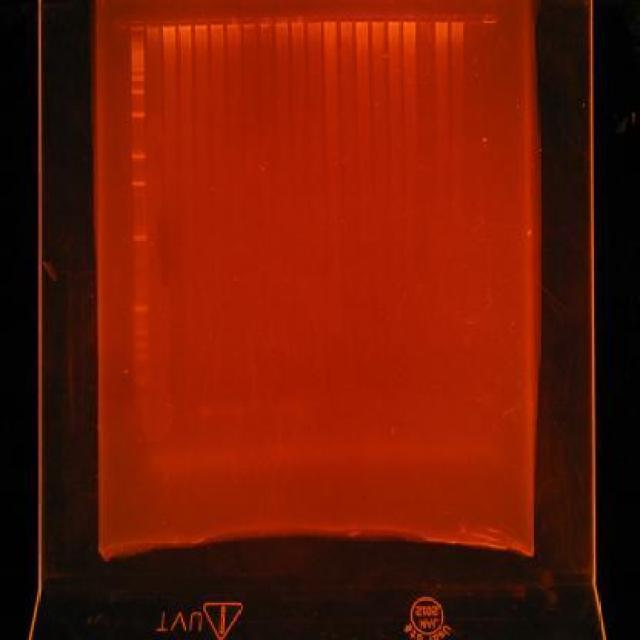L: (109, 10, 500, 36)
M: (129, 40, 151, 391)
P: (132, 374, 148, 388), (132, 352, 150, 362), (132, 303, 148, 314), (132, 338, 148, 348), (132, 328, 148, 337), (132, 234, 148, 242), (132, 180, 146, 188), (132, 152, 146, 160), (130, 110, 144, 118), (130, 88, 144, 96), (130, 74, 144, 82), (130, 48, 144, 56), (130, 56, 146, 62), (130, 66, 144, 72), (133, 260, 147, 266), (130, 62, 144, 66)
Pc: (110, 18, 127, 32), (401, 12, 417, 26), (451, 12, 466, 26), (468, 12, 482, 26), (370, 14, 386, 26), (130, 19, 144, 32), (418, 13, 434, 24), (306, 16, 322, 26), (356, 14, 369, 26), (194, 20, 208, 31), (226, 17, 240, 28), (242, 17, 256, 28), (258, 17, 272, 28), (483, 13, 497, 24), (434, 13, 448, 24), (386, 13, 400, 24), (290, 16, 304, 27), (274, 16, 288, 27), (146, 20, 162, 29), (323, 16, 337, 26), (177, 20, 192, 29), (162, 20, 176, 29), (338, 16, 353, 24), (210, 20, 224, 28)
